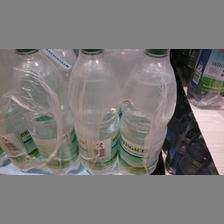Wasser: (11, 48, 77, 174), (120, 48, 176, 174), (68, 48, 120, 174)
